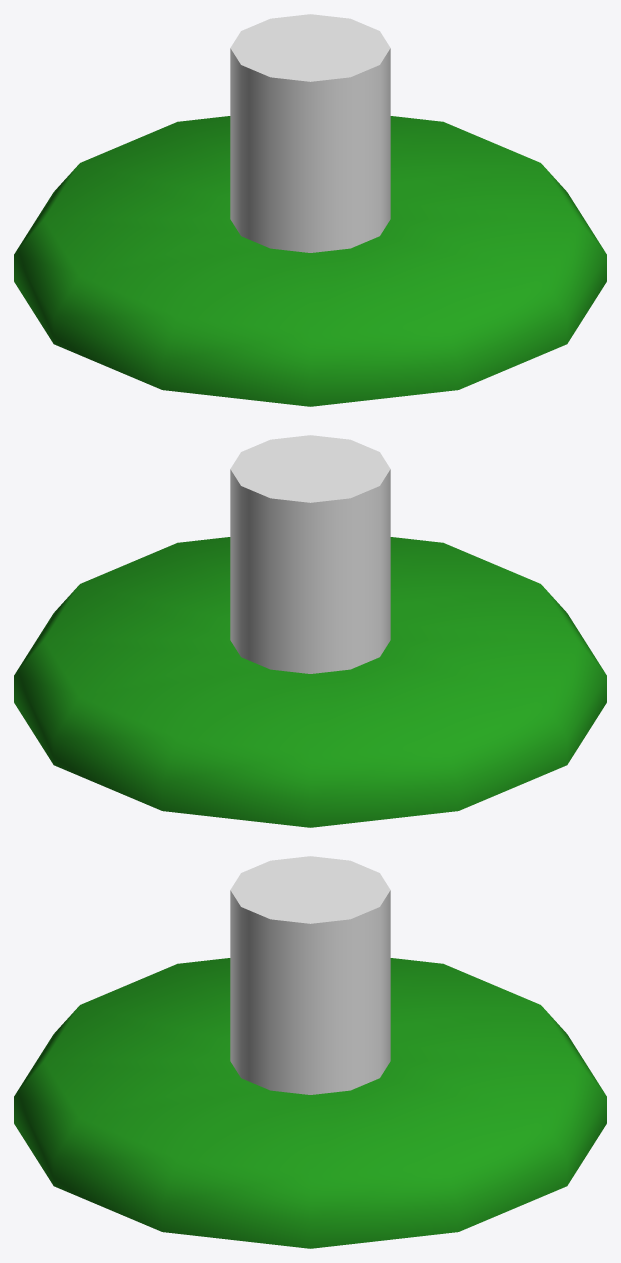
File: itembase.FBX
3 renders of one model, top to bottom at view 1: azimuth 30°, elevation 25°; view 2: azimuth 150°, elevation 25°; view 3: azimuth 270°, elevation 25°, orthographic.
Visible parts, largest first — view 1: Cylinder001; view 2: Cylinder001; view 3: Cylinder001.
Part boxes in pixels (bbox=[...]): Cylinder001: bbox=[14, 14, 606, 406]; Cylinder001: bbox=[14, 435, 606, 827]; Cylinder001: bbox=[14, 856, 606, 1248].
Bounding box in the file's own units: 20 × 8.69 × 20.
1 material, 1 textured.
